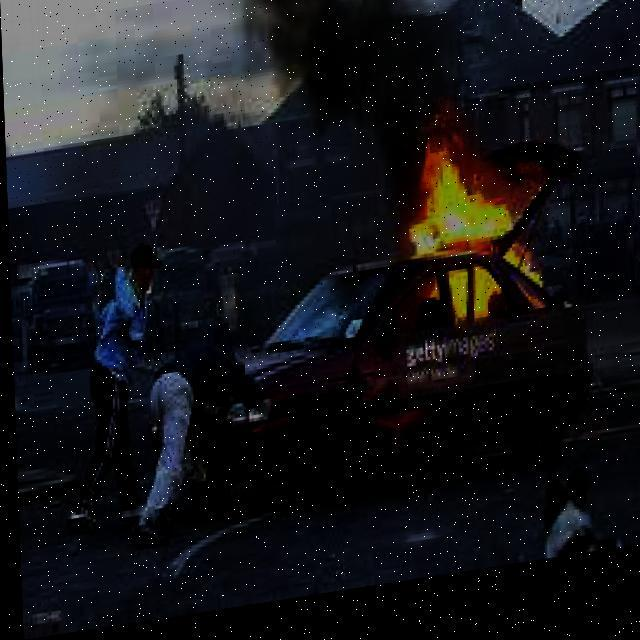Fire: (387, 108, 559, 346)
